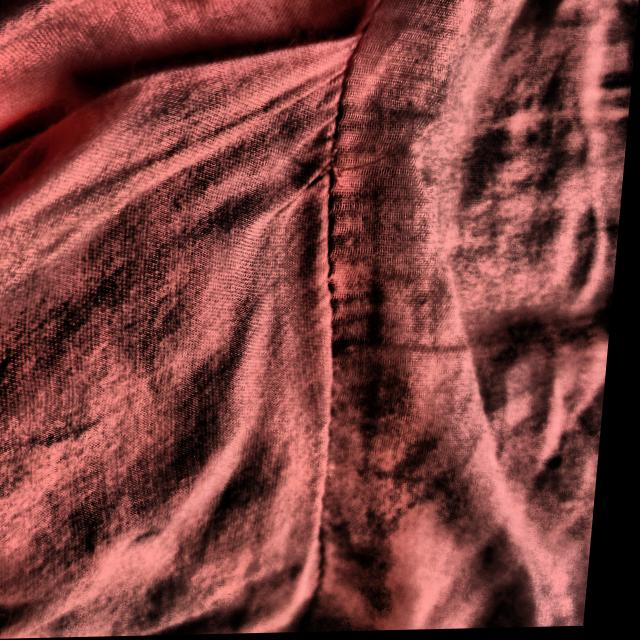Stitch: (285, 134, 412, 200)
